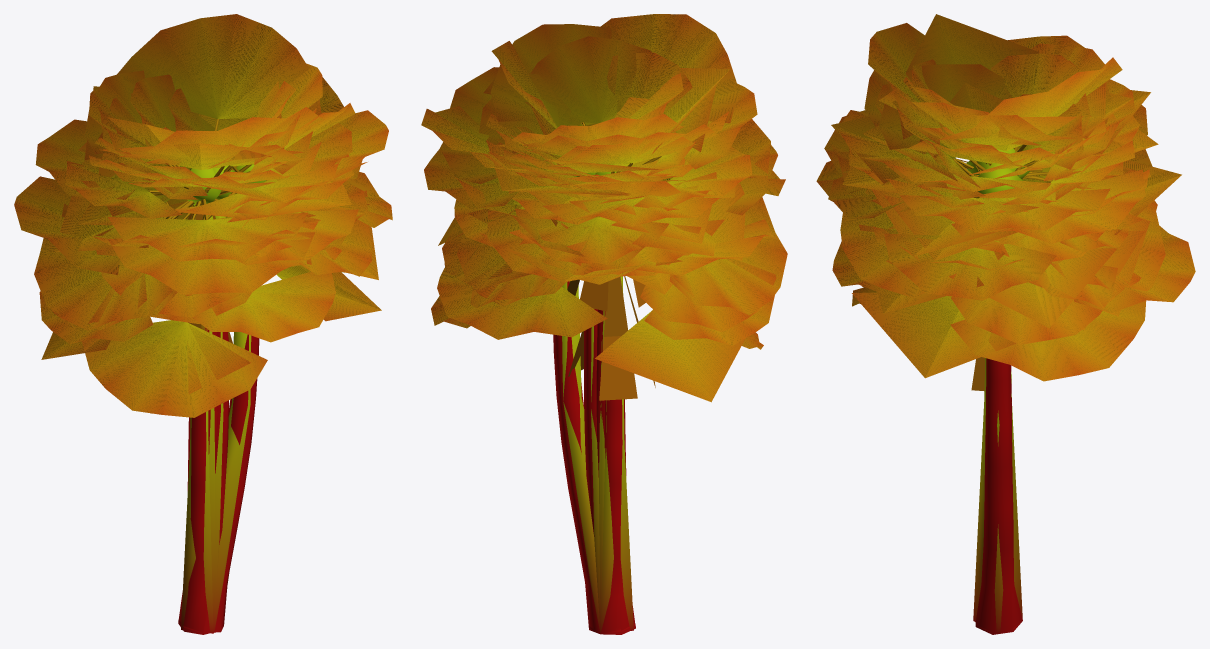
The model's file is sabal.glb.
The picture shows the model from 3 angles, left to right: view 1: azimuth 30°, elevation 25°; view 2: azimuth 150°, elevation 25°; view 3: azimuth 270°, elevation 25°; orthographic projection. The views are drawn at different scales.
Visible parts, largest first — view 1: v5, v3, v2, v4, v0, v3_far, v1, v0_far, v4_far, v2_far, v1_far, v5_far; view 2: v5, v3, v2, v0, v4, v3_far, v1, v2_far, v4_far, v0_far, v5_far, v1_far; view 3: v4, v5, v2, v3, v4_far, v3_far, v0, v1, v2_far, v1_far, v5_far, v0_far.
Boxes of the visible parts, x1,y1,x2,y2 form: v5: [34, 14, 372, 330]; v3: [14, 157, 368, 634]; v2: [35, 63, 362, 634]; v4: [119, 77, 392, 632]; v0: [65, 81, 352, 632]; v3_far: [41, 180, 381, 633]; v1: [101, 74, 316, 634]; v0_far: [78, 86, 351, 613]; v4_far: [160, 128, 378, 632]; v2_far: [53, 117, 271, 631]; v1_far: [148, 142, 359, 628]; v5_far: [94, 81, 365, 236]; v5: [424, 14, 787, 315]; v3: [431, 119, 774, 634]; v2: [439, 24, 777, 634]; v0: [457, 36, 752, 634]; v4: [421, 67, 685, 633]; v3_far: [480, 139, 747, 632]; v1: [486, 113, 692, 634]; v2_far: [487, 68, 745, 622]; v4_far: [438, 97, 649, 632]; v0_far: [479, 84, 716, 630]; v5_far: [486, 73, 724, 294]; v1_far: [517, 126, 643, 633]; v4: [828, 64, 1135, 634]; v5: [816, 23, 1145, 297]; v2: [824, 59, 1165, 628]; v3: [829, 110, 1195, 628]; v4_far: [831, 83, 1136, 633]; v3_far: [852, 160, 1181, 378]; v0: [865, 35, 1141, 629]; v1: [919, 53, 1123, 632]; v2_far: [906, 14, 1145, 455]; v1_far: [862, 125, 1052, 609]; v5_far: [871, 101, 1158, 256]; v0_far: [842, 90, 1150, 593].
Bounding box in the file's own units: 5.99 × 9.93 × 5.79.
